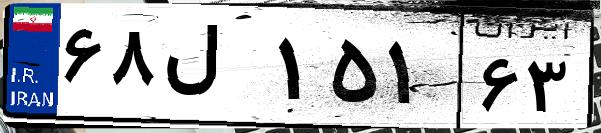1: (270, 28, 330, 110), (385, 28, 445, 110)
3: (525, 38, 570, 115)
5: (330, 28, 385, 110)
6: (57, 26, 110, 100), (475, 38, 525, 113)
8: (110, 28, 158, 98)
ل: (158, 20, 270, 120)
